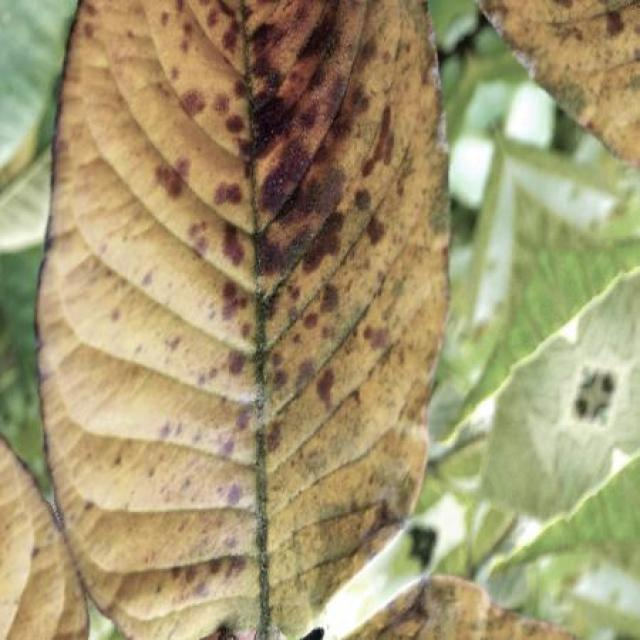Red Rust: (40, 0, 446, 640)
